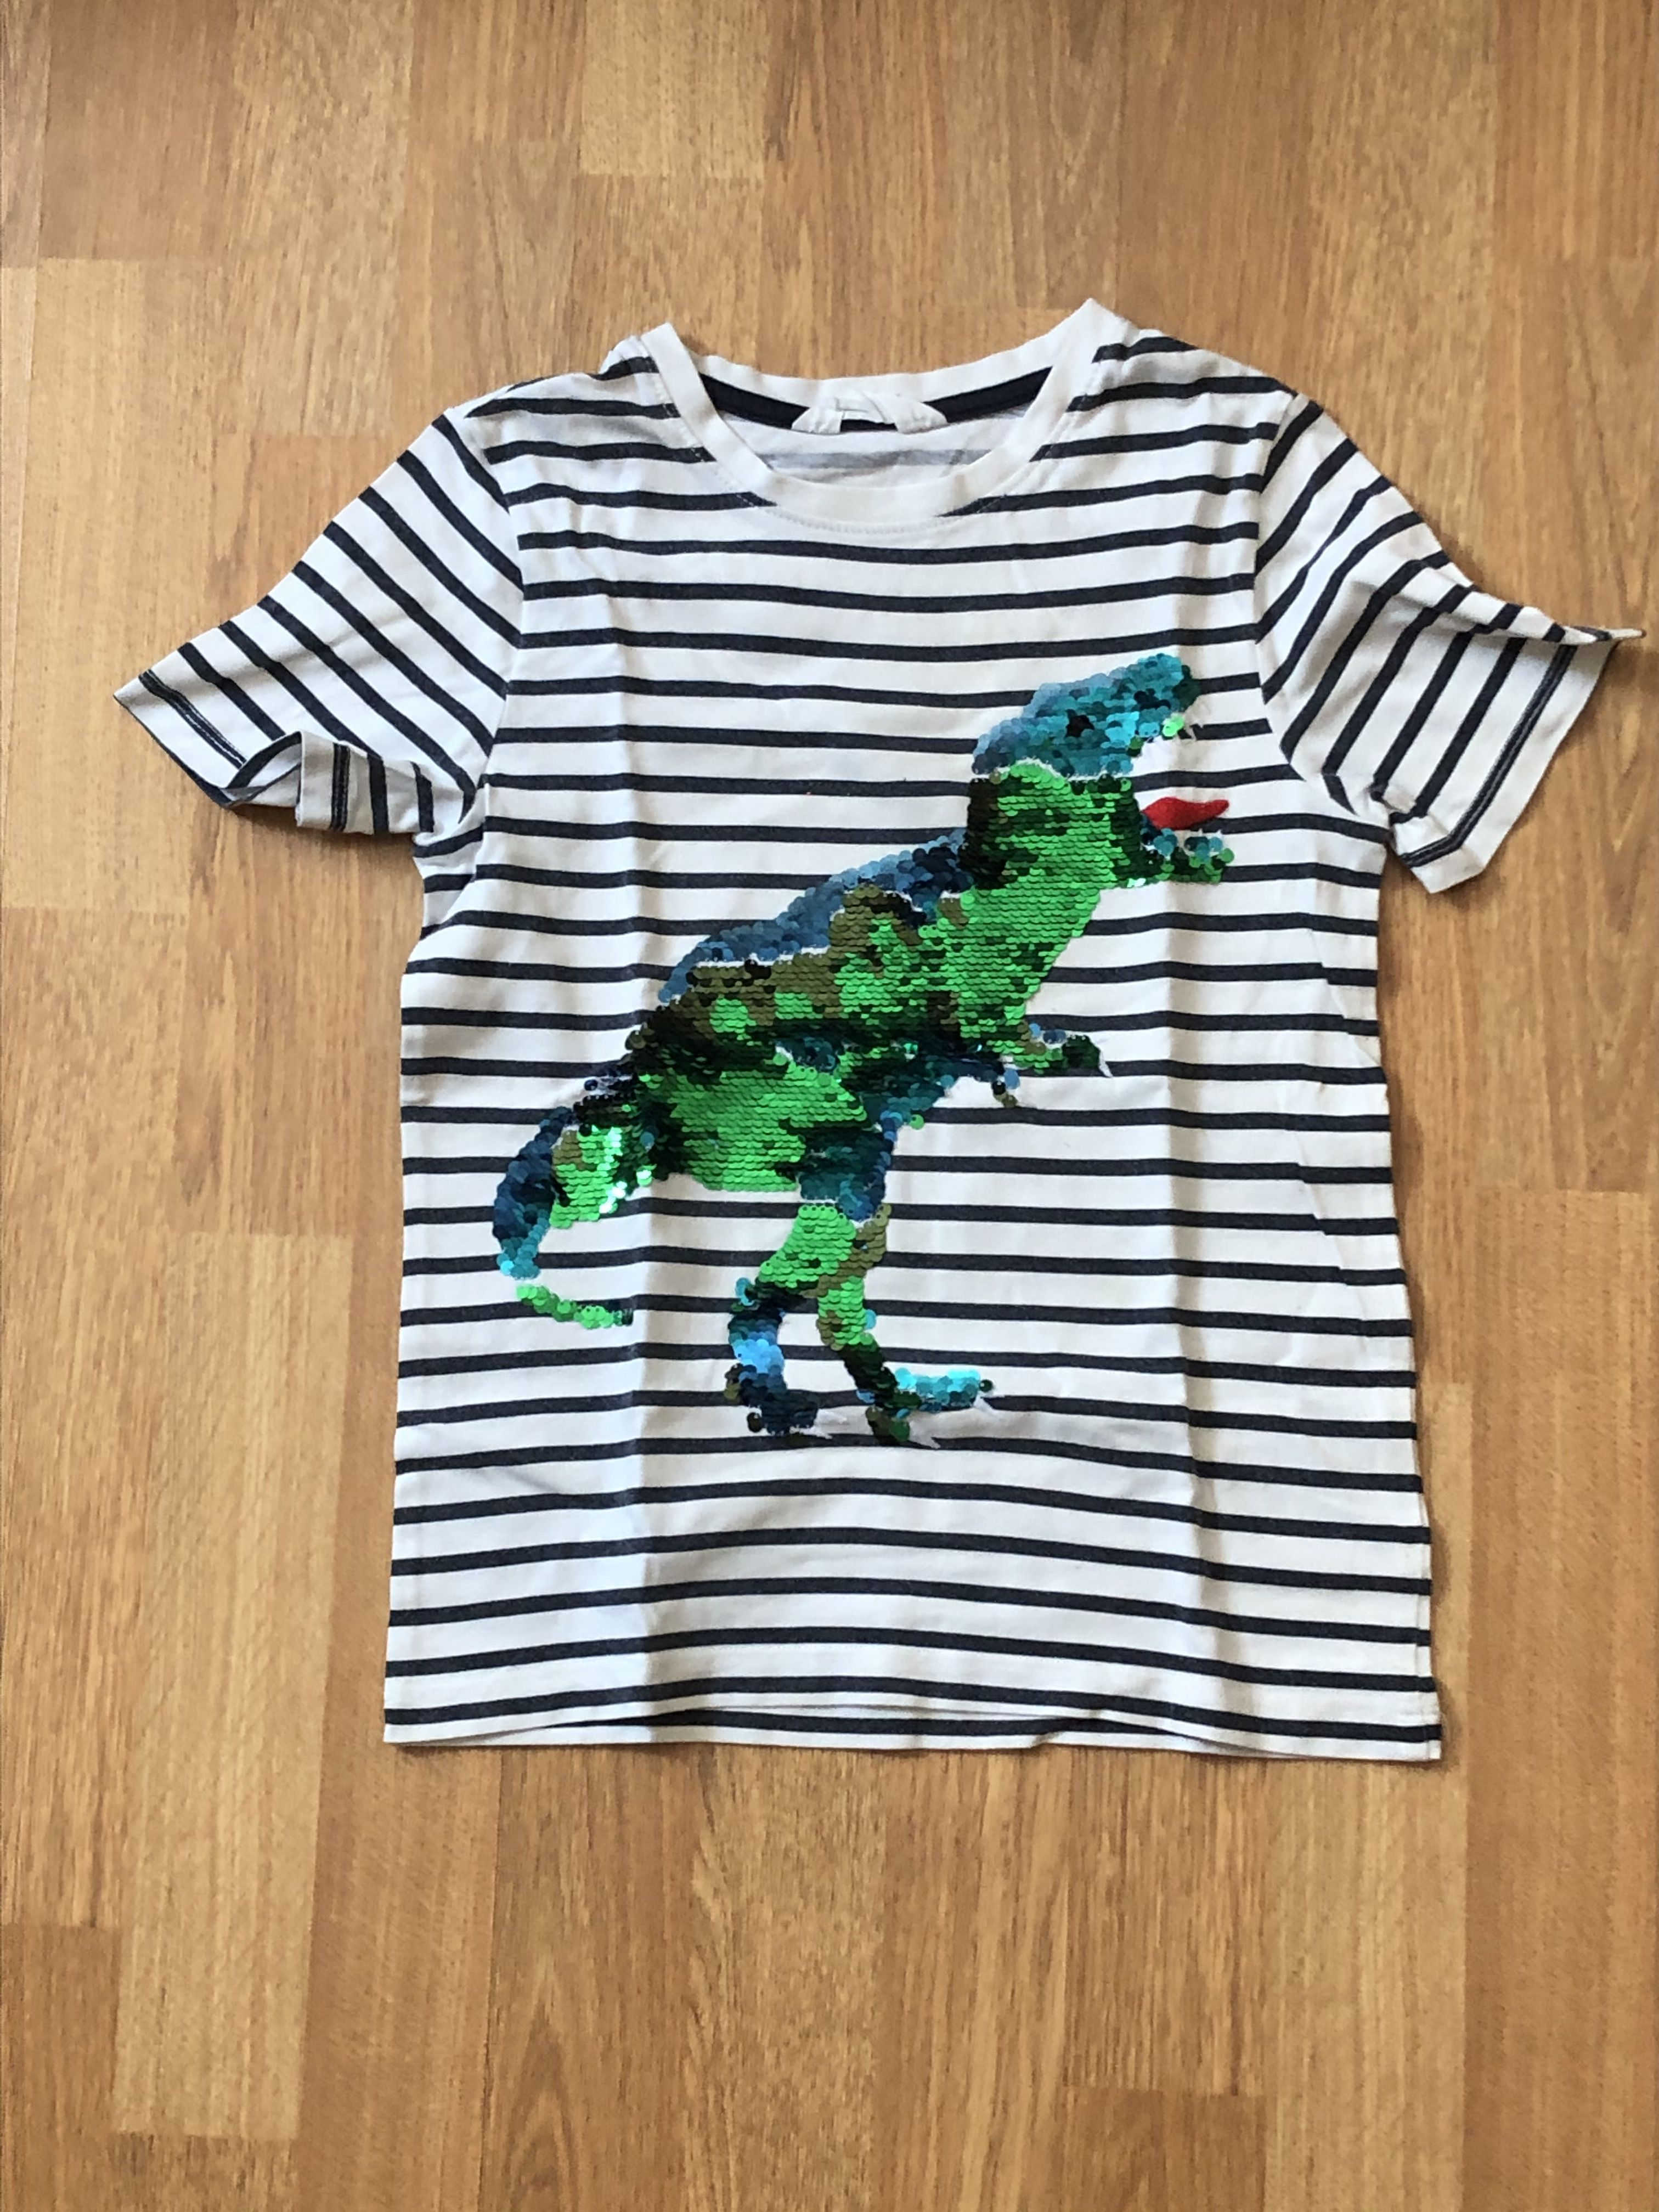clothes: (91, 301, 1561, 1789)
